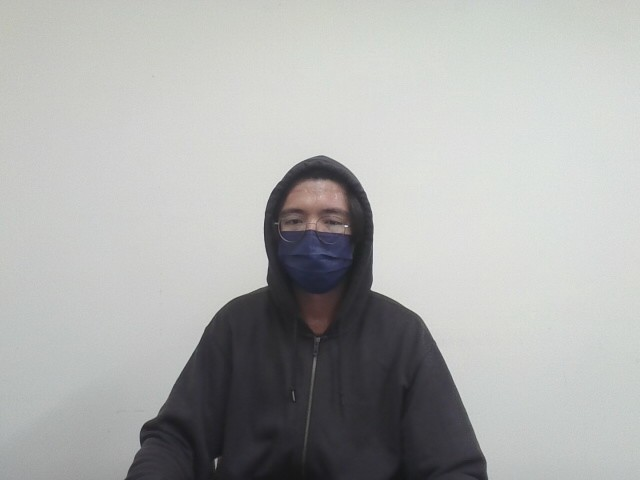No_Helmet: (259, 151, 375, 297)
person: (88, 134, 523, 480)
